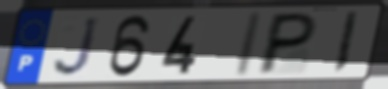4: (157, 14, 199, 77)
6: (106, 14, 152, 80)
I: (230, 10, 266, 79), (329, 10, 362, 75)
J: (51, 15, 102, 80)
P: (253, 11, 321, 77)
